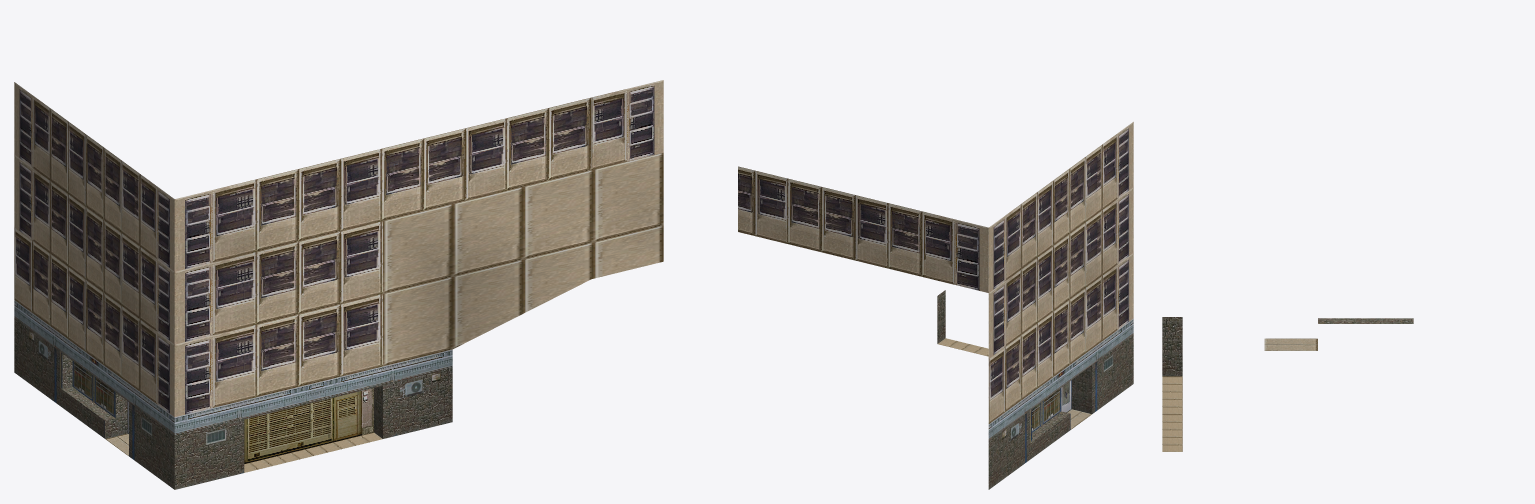
The model's file is M2Zone3_SlopeBilding1.glb.
3 renders of one model, left to right at view 1: azimuth 30°, elevation 25°; view 2: azimuth 150°, elevation 25°; view 3: azimuth 270°, elevation 25°, orthographic. The views are drawn at different scales.
Visible parts, largest first — view 1: M2ZONE3_SLOPEBILDING1; view 2: M2ZONE3_SLOPEBILDING1; view 3: M2ZONE3_SLOPEBILDING1.
Part boxes in pixels (box(x1,y1,x2,y2)): M2ZONE3_SLOPEBILDING1: box(14, 80, 663, 489); M2ZONE3_SLOPEBILDING1: box(738, 122, 1133, 489); M2ZONE3_SLOPEBILDING1: box(1162, 317, 1413, 451).
Size of the model in its own units: 28.15 by 16 by 16.
6 materials, 6 textured.
